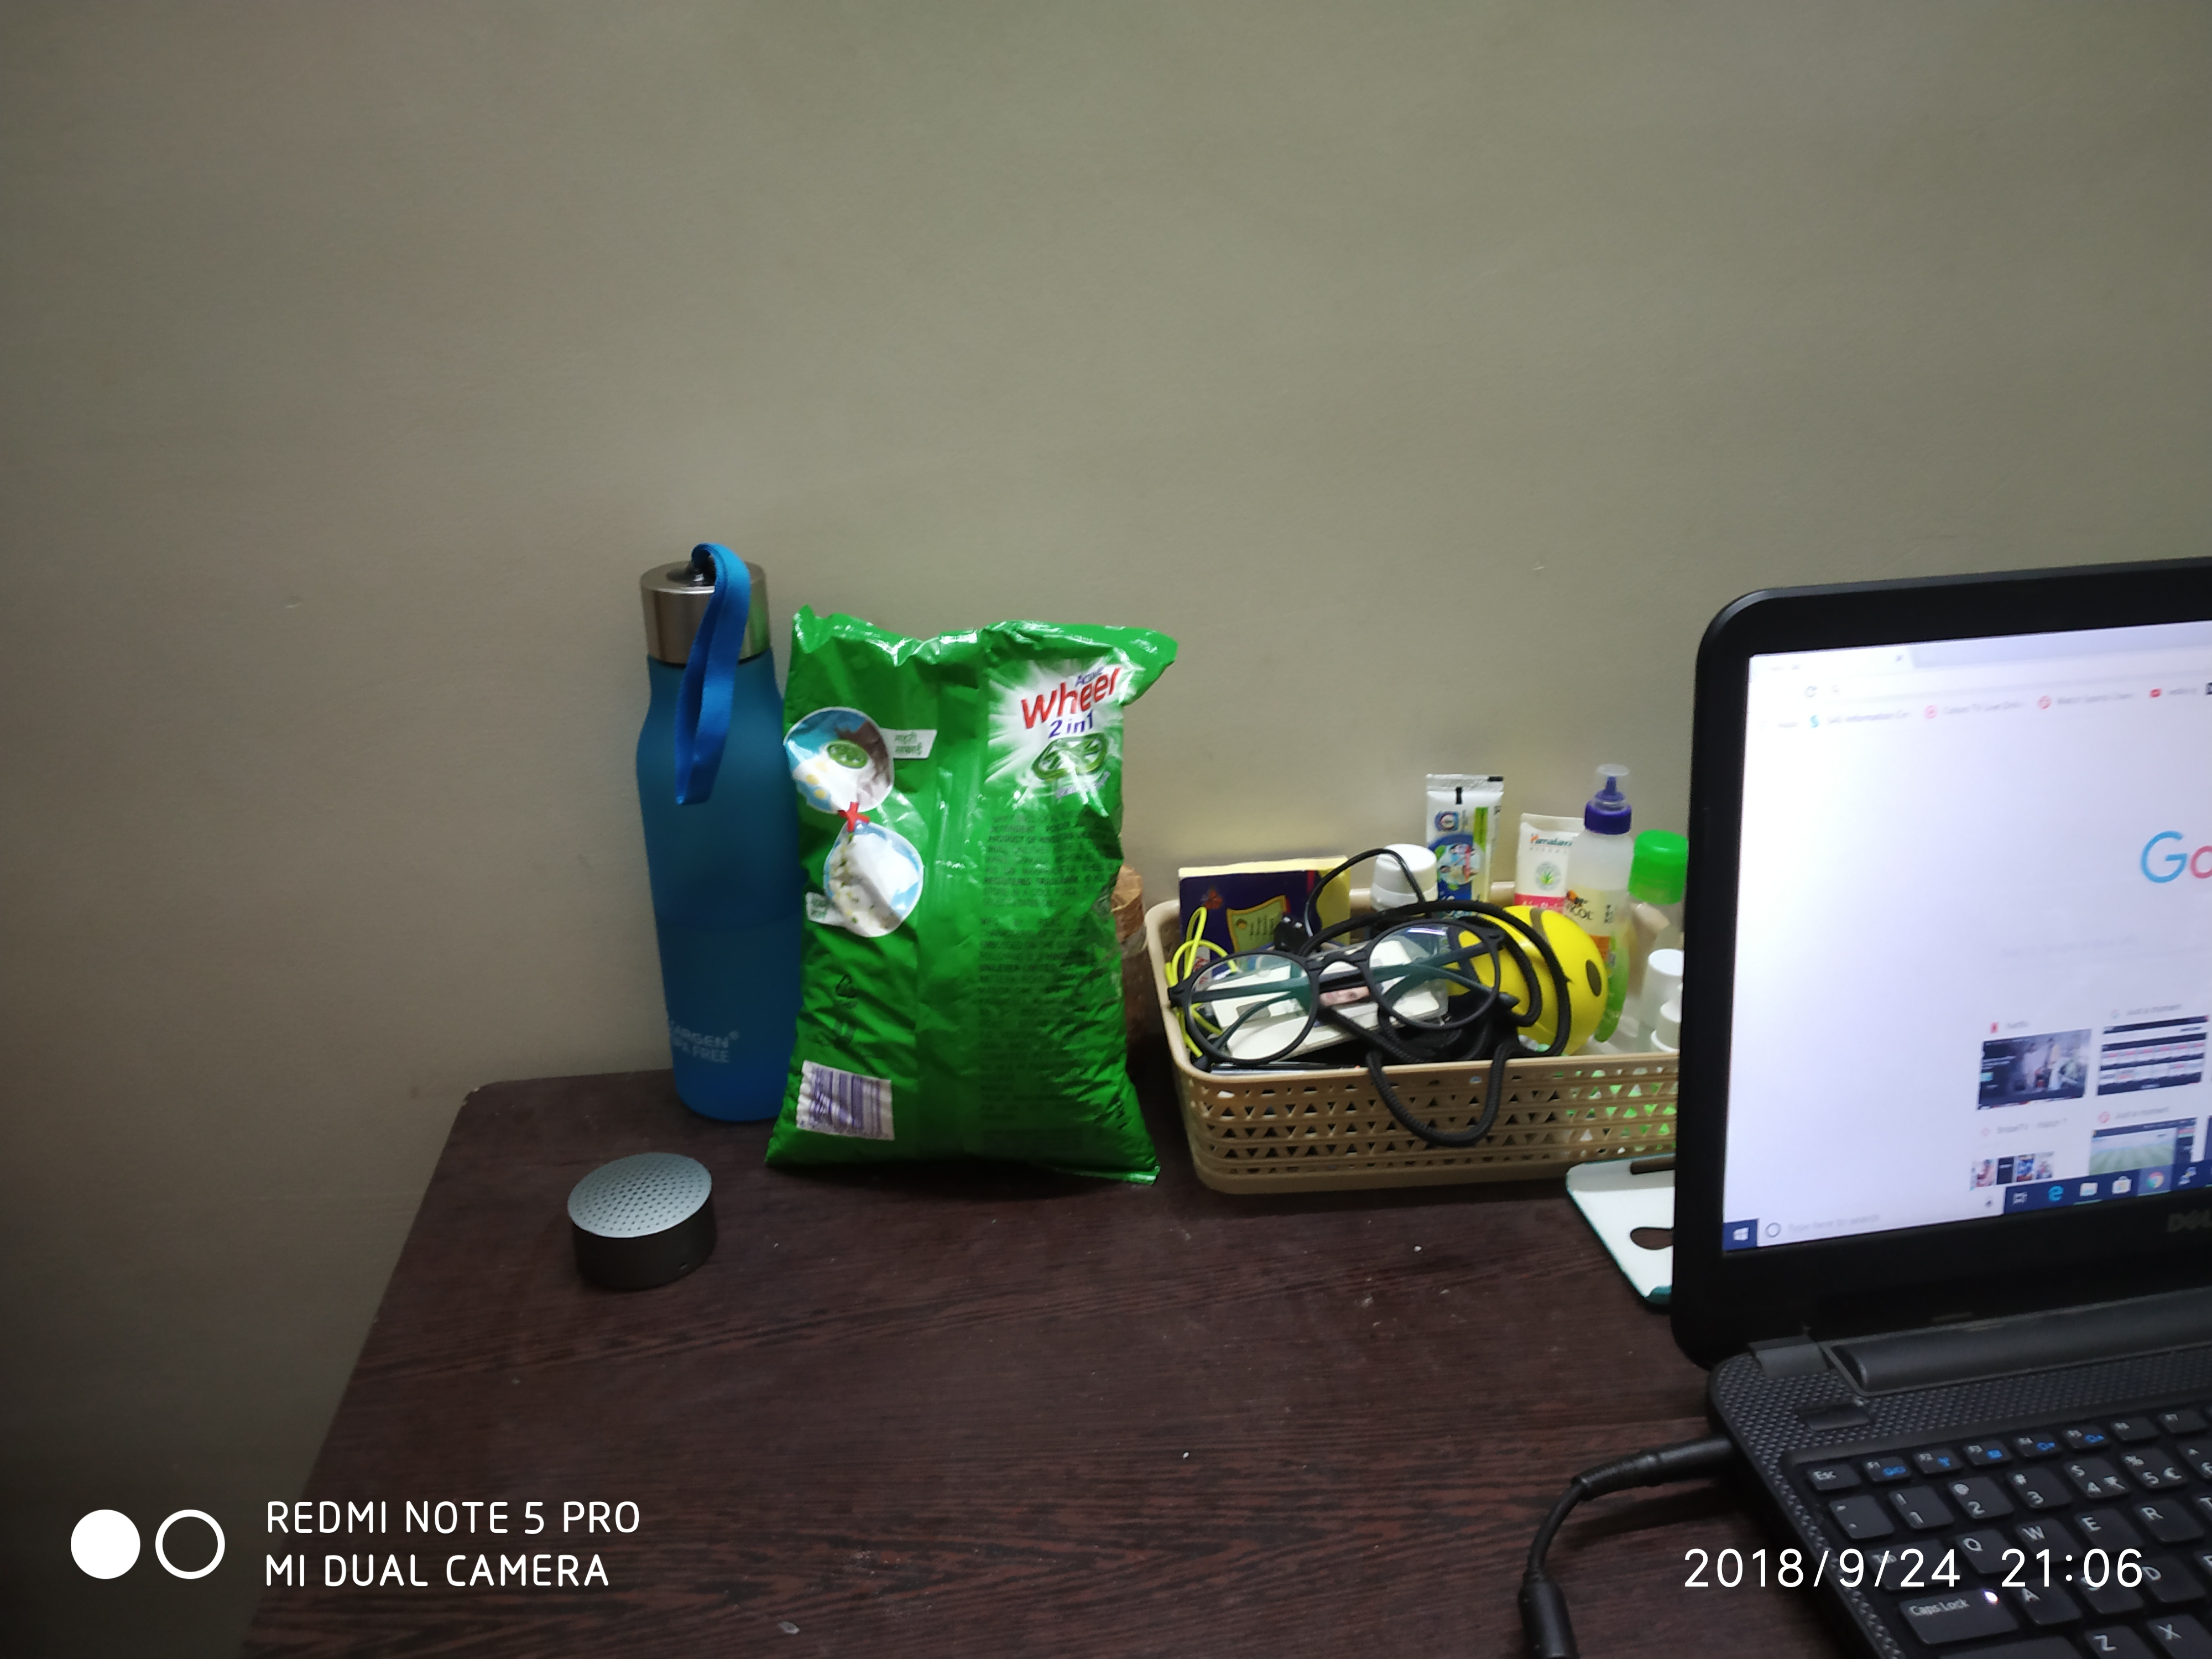detergent: (776, 611, 1157, 1181)
